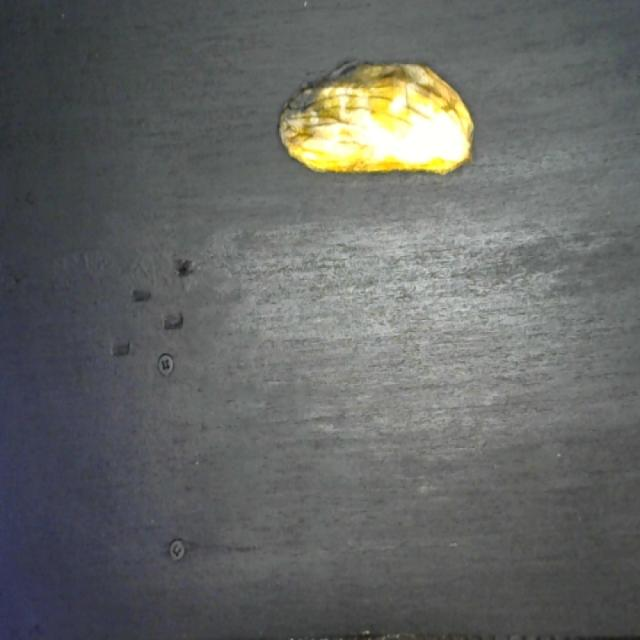biodegradable: (273, 50, 480, 185)
